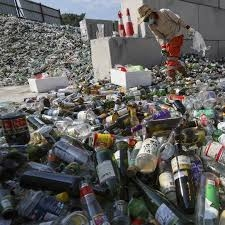glass: (128, 173, 195, 225), (167, 137, 203, 211), (90, 148, 125, 202), (77, 179, 115, 225), (197, 169, 219, 225), (136, 134, 163, 173), (199, 137, 225, 162), (65, 121, 98, 135), (127, 105, 142, 130), (72, 108, 102, 120)
metal: (18, 166, 84, 195), (50, 138, 94, 167), (1, 114, 32, 145), (1, 193, 16, 220), (40, 126, 60, 144), (27, 113, 46, 129), (170, 98, 187, 114)
